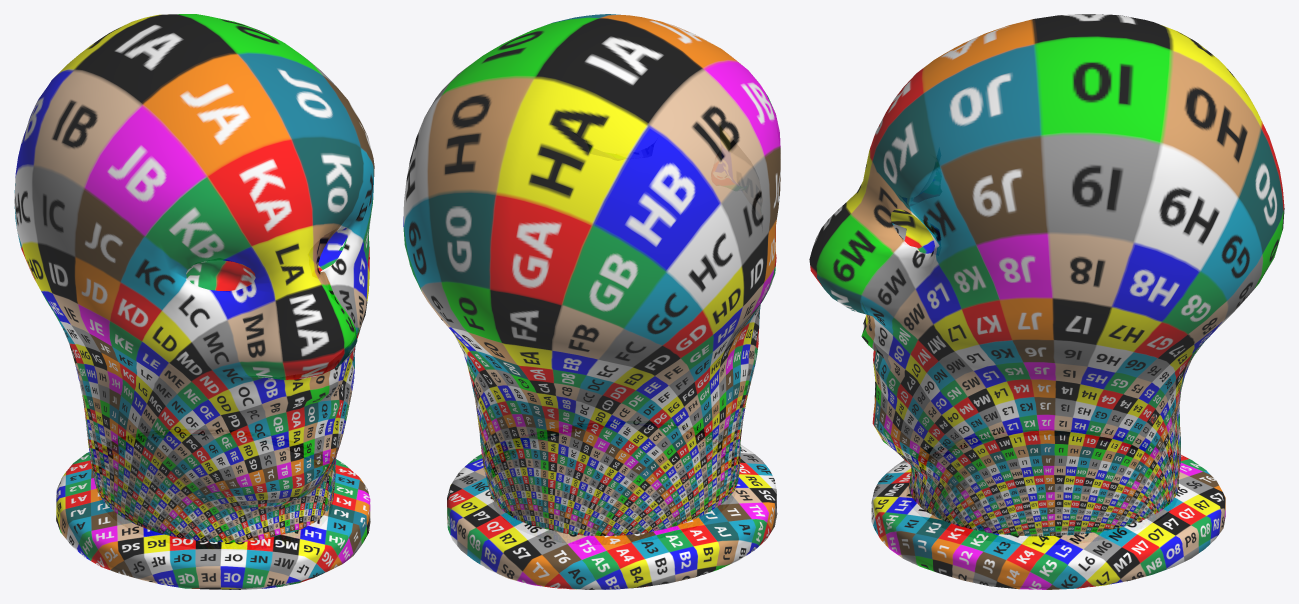
The model's file is glasshead.gltf.
3 renders of one model, left to right at view 1: azimuth 30°, elevation 25°; view 2: azimuth 150°, elevation 25°; view 3: azimuth 270°, elevation 25°, orthographic. The views are drawn at different scales.
Visible parts, largest first — view 1: head; view 2: head; view 3: head.
Boxes of the visible parts, <box> form: head: <box>14,14,374,589</box>; head: <box>403,14,780,589</box>; head: <box>809,14,1284,589</box>.
Bounding box in the file's own units: 0.3512 × 0.5329 × 0.4624.
Materials: 1 (1 with a texture image).
